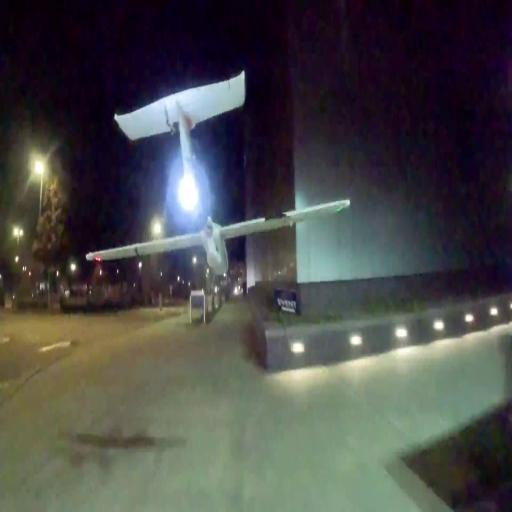uav: (79, 61, 359, 285)
